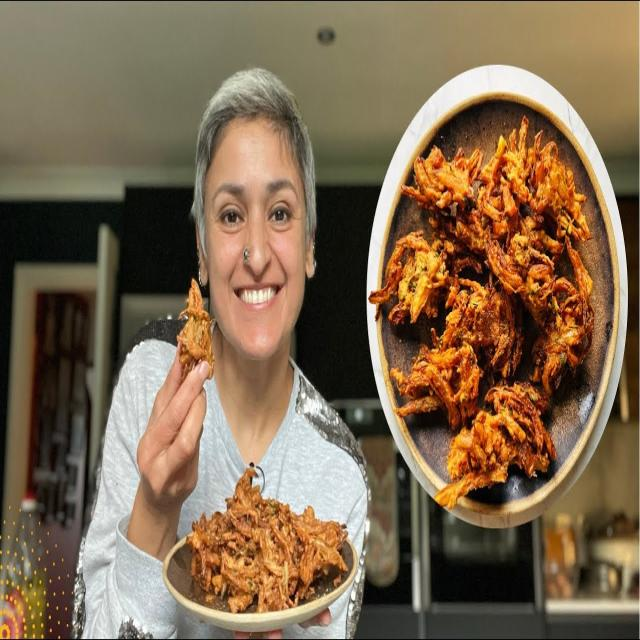BAJI: (367, 123, 593, 505), (186, 465, 351, 601)
